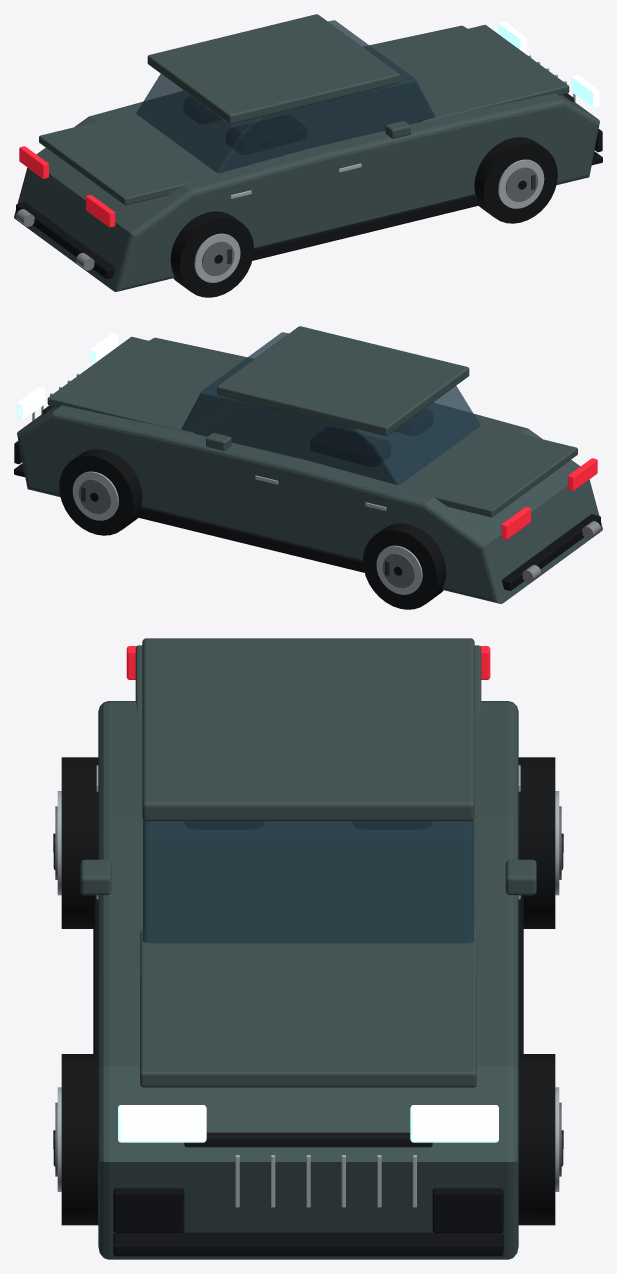
Rendered from chevy_bolt_euv.glb.
3 renders of one model, top to bottom at view 1: azimuth 30°, elevation 25°; view 2: azimuth 150°, elevation 25°; view 3: azimuth 270°, elevation 25°, orthographic. The views are drawn at different scales.
Visible parts, largest first — view 1: sculpted_body, roof, glasshouse, hood_center, rear_deck, rear_right_wheel_tire, front_right_wheel_tire, side_skirt_1, seat_1, rear_diffuser, front_right_wheel_rim, rear_right_wheel_rim (+7 smaller); view 2: sculpted_body, roof, glasshouse, hood_center, rear_deck, rear_left_wheel_tire, front_left_wheel_tire, side_skirt_-1, seat_-1, rear_diffuser, front_left_wheel_rim, rear_left_wheel_rim (+7 smaller); view 3: sculpted_body, roof, hood_center, glasshouse, front_splitter, front_left_wheel_tire, front_right_wheel_tire, rear_left_wheel_tire, rear_right_wheel_tire, front_grille, headlight_left, headlight_right (+7 smaller).
Part boxes in pixels (bbox=[...]): sculpted_body: bbox=[14, 25, 599, 291]; roof: bbox=[147, 14, 399, 124]; glasshouse: bbox=[136, 20, 435, 173]; hood_center: bbox=[372, 25, 569, 121]; rear_deck: bbox=[39, 117, 200, 205]; rear_right_wheel_tire: bbox=[170, 211, 253, 297]; front_right_wheel_tire: bbox=[474, 137, 557, 223]; side_skirt_1: bbox=[252, 194, 480, 260]; seat_1: bbox=[226, 115, 306, 154]; rear_diffuser: bbox=[16, 202, 114, 278]; front_right_wheel_rim: bbox=[498, 159, 544, 208]; rear_right_wheel_rim: bbox=[194, 233, 240, 282]; sculpted_body: bbox=[17, 337, 602, 603]; roof: bbox=[217, 326, 469, 436]; glasshouse: bbox=[181, 332, 480, 485]; hood_center: bbox=[47, 337, 244, 433]; rear_deck: bbox=[416, 429, 577, 517]; rear_left_wheel_tire: bbox=[363, 523, 446, 609]; front_left_wheel_tire: bbox=[59, 449, 142, 535]; side_skirt_-1: bbox=[136, 506, 364, 572]; seat_-1: bbox=[310, 427, 390, 466]; rear_diffuser: bbox=[502, 514, 600, 590]; front_left_wheel_rim: bbox=[72, 471, 118, 520]; rear_left_wheel_rim: bbox=[376, 545, 422, 594]; sculpted_body: bbox=[98, 701, 518, 1259]; roof: bbox=[142, 638, 474, 821]; hood_center: bbox=[140, 930, 476, 1087]; glasshouse: bbox=[143, 820, 473, 943]; front_splitter: bbox=[113, 1232, 503, 1256]; front_left_wheel_tire: bbox=[518, 1054, 555, 1225]; front_right_wheel_tire: bbox=[61, 1054, 98, 1225]; rear_left_wheel_tire: bbox=[518, 757, 555, 928]; rear_right_wheel_tire: bbox=[61, 757, 98, 928]; front_grille: bbox=[184, 1132, 432, 1147]; headlight_left: bbox=[410, 1105, 498, 1142]; headlight_right: bbox=[118, 1105, 206, 1142].
Size of the model in its own units: 4.92 by 1.47 by 2.14.
